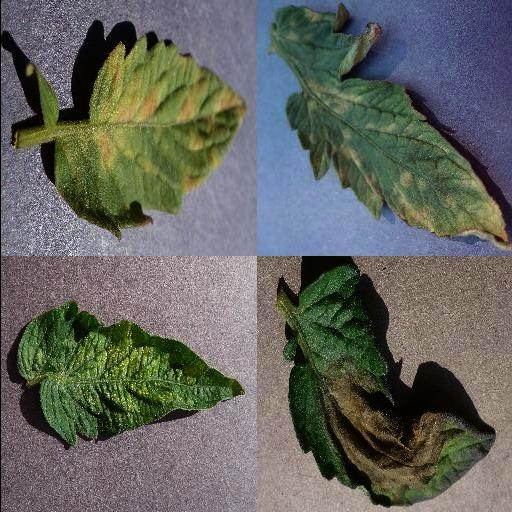Late Blight: (280, 266, 494, 508)
Leaf Mold: (266, 4, 512, 250), (53, 35, 247, 241)
Spider Mites: (15, 298, 245, 446)
